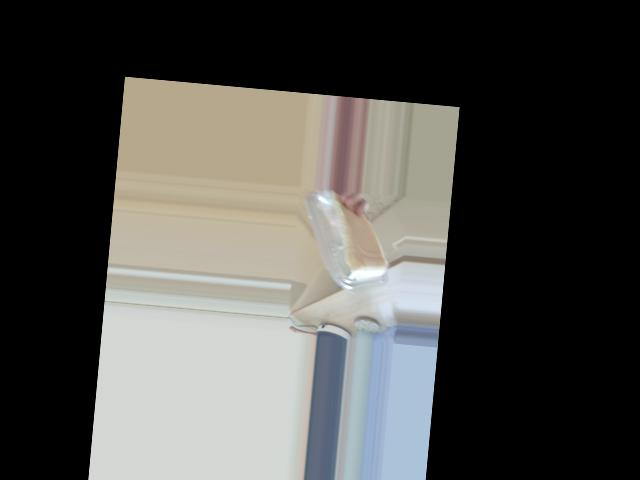cheese: (312, 223, 380, 284)
